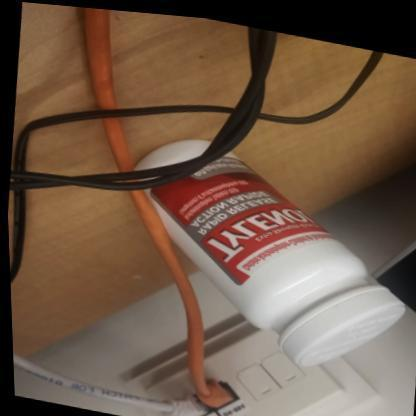jar: (135, 119, 409, 394), (133, 134, 212, 171)
